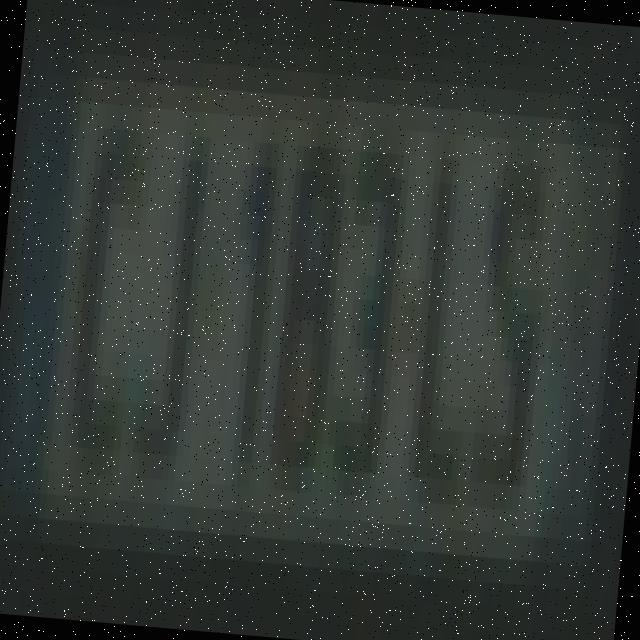Autre: (0, 71, 624, 559)
